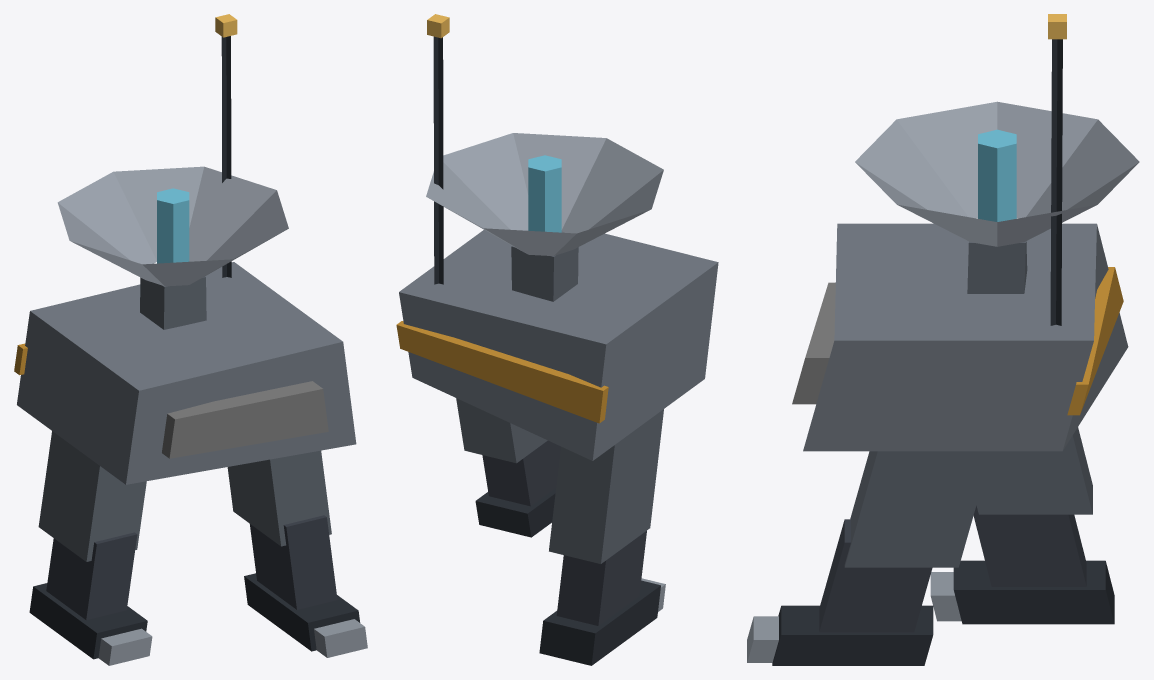
The model's file is hound-walk-2.obj.
The picture shows the model from 3 angles, left to right: view 1: azimuth 30°, elevation 25°; view 2: azimuth 150°, elevation 25°; view 3: azimuth 270°, elevation 25°; orthographic projection. The views are drawn at different scales.
Parts seen in each view (by area): view 1: hound-walk-2; view 2: hound-walk-2; view 3: hound-walk-2.
Boxes of the visible parts, left/top/right/bottom form: hound-walk-2: left=14, top=14, right=367, bottom=665; hound-walk-2: left=396, top=14, right=718, bottom=665; hound-walk-2: left=747, top=14, right=1139, bottom=665.
Size of the model in its own units: 0.92 by 2.36 by 1.24.
